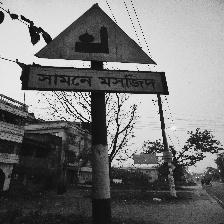Mosque in front: (28, 1, 164, 95)
